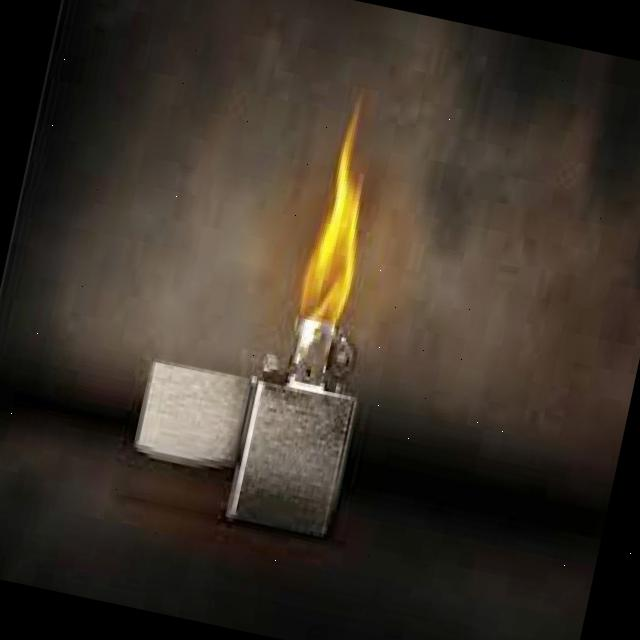fire: (281, 94, 403, 336)
